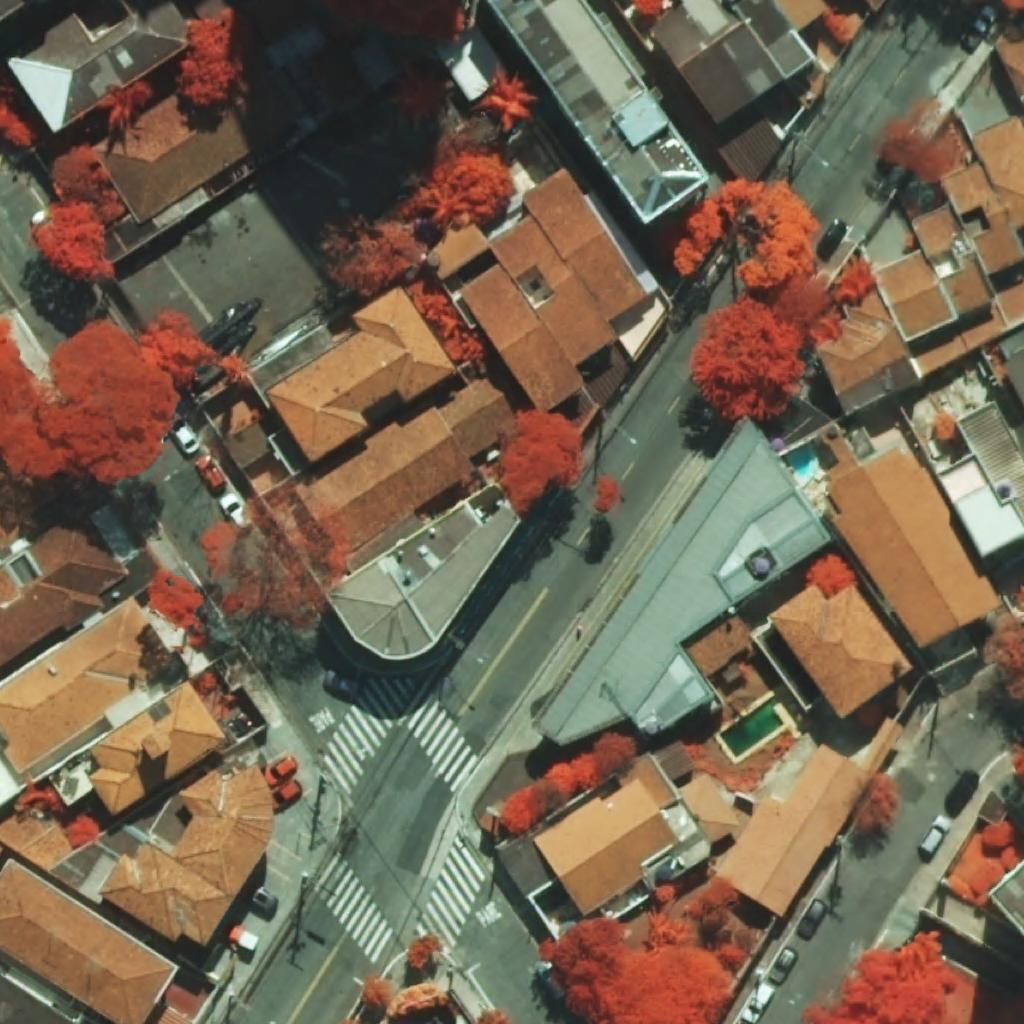pool: (719, 702, 784, 758), (787, 444, 814, 477)
